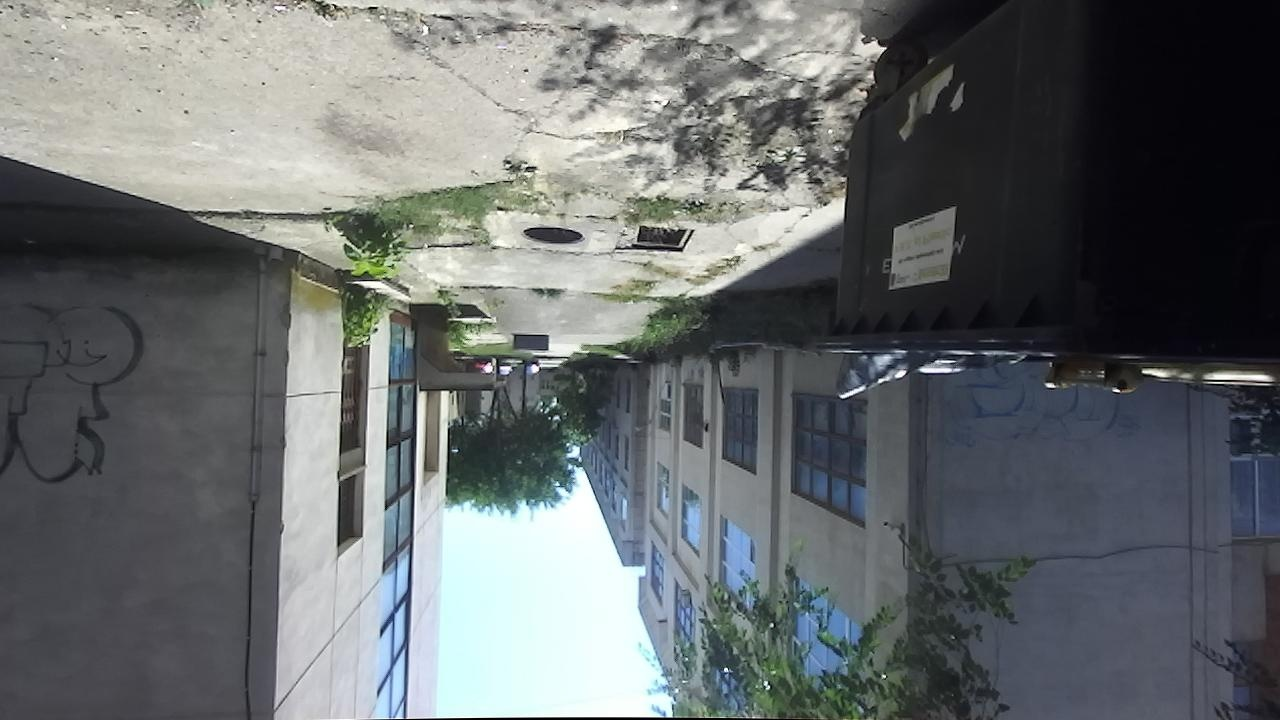drain: (629, 222, 698, 253), (518, 226, 591, 250)
